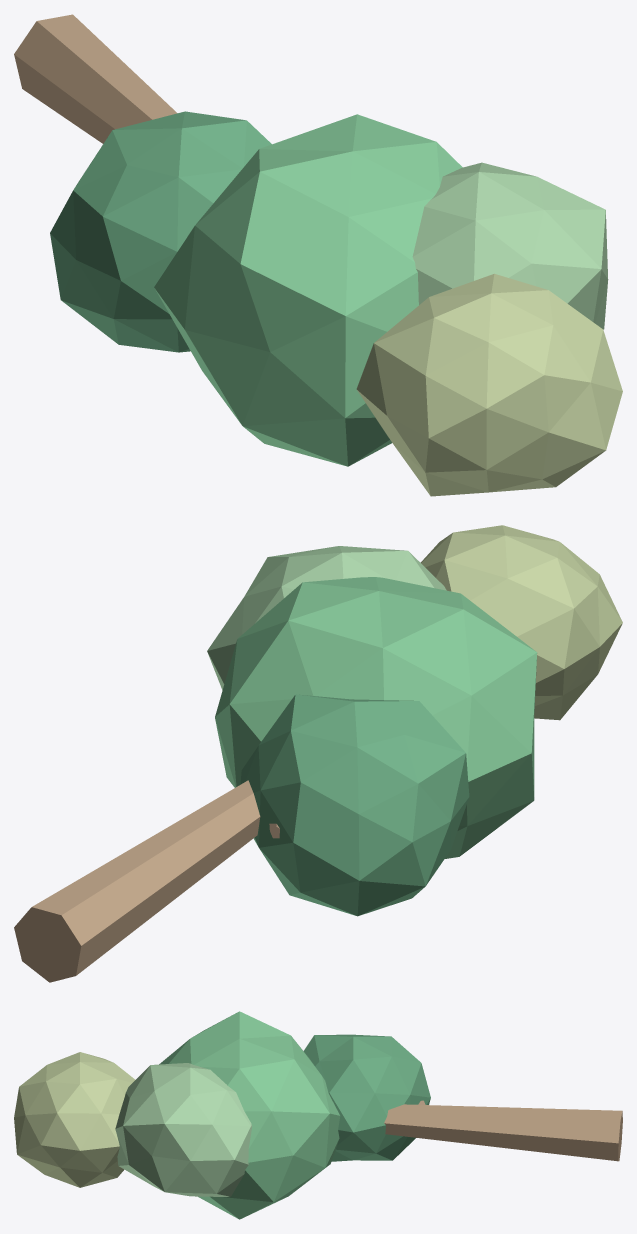
Rendered from tree_oak_tall.glb.
3 views of the same model, one above another, from view 1: azimuth 30°, elevation 25°; view 2: azimuth 150°, elevation 25°; view 3: azimuth 270°, elevation 25° (orthographic). The views are drawn at different scales.
Parts seen in each view (by area): view 1: tree_oak_tall_leaf_mid, tree_oak_tall_leaf_sage, tree_oak_tall_leaf_dark, tree_oak_tall_leaf_light, tree_oak_tall_bark; view 2: tree_oak_tall_leaf_mid, tree_oak_tall_leaf_dark, tree_oak_tall_leaf_sage, tree_oak_tall_bark, tree_oak_tall_leaf_light; view 3: tree_oak_tall_leaf_mid, tree_oak_tall_leaf_light, tree_oak_tall_leaf_sage, tree_oak_tall_leaf_dark, tree_oak_tall_bark.
Boxes of the visible parts, x1=… form: tree_oak_tall_leaf_mid: x1=154, y1=114, x2=462, y2=466; tree_oak_tall_leaf_sage: x1=356, y1=273, x2=622, y2=496; tree_oak_tall_leaf_dark: x1=50, y1=111, x2=271, y2=352; tree_oak_tall_leaf_light: x1=412, y1=162, x2=608, y2=329; tree_oak_tall_bark: x1=14, y1=14, x2=177, y2=143; tree_oak_tall_leaf_mid: x1=215, y1=577, x2=537, y2=858; tree_oak_tall_leaf_dark: x1=240, y1=694, x2=469, y2=916; tree_oak_tall_leaf_sage: x1=420, y1=525, x2=622, y2=720; tree_oak_tall_bark: x1=14, y1=780, x2=260, y2=982; tree_oak_tall_leaf_light: x1=207, y1=546, x2=446, y2=690; tree_oak_tall_leaf_mid: x1=159, y1=1011, x2=340, y2=1219; tree_oak_tall_leaf_light: x1=115, y1=1063, x2=252, y2=1196; tree_oak_tall_leaf_sage: x1=14, y1=1052, x2=135, y2=1187; tree_oak_tall_leaf_dark: x1=303, y1=1034, x2=430, y2=1161; tree_oak_tall_bark: x1=384, y1=1104, x2=622, y2=1161.
Bounding box in the file's own units: 3.52 × 2.53 × 8.6.
